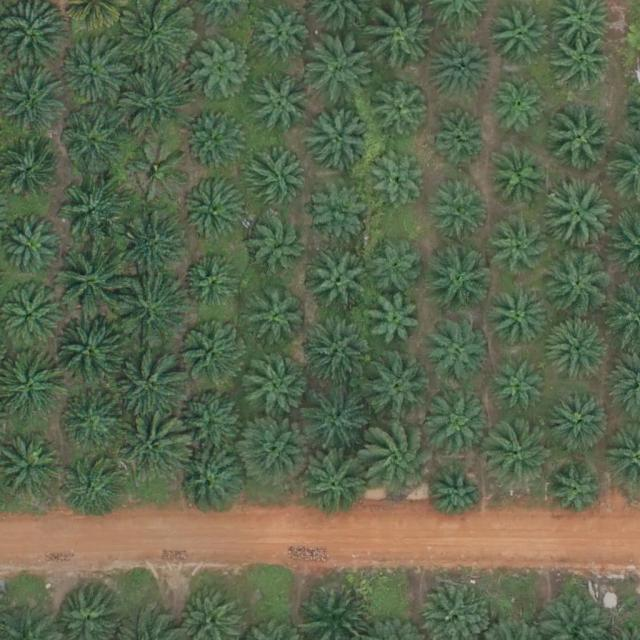Healthy: (361, 422, 439, 501), (545, 103, 616, 174), (541, 182, 612, 253), (301, 320, 372, 391), (116, 205, 187, 276), (55, 315, 126, 386), (543, 249, 613, 320), (487, 420, 557, 491), (304, 38, 374, 109), (301, 384, 372, 454), (299, 450, 369, 521), (116, 414, 186, 485), (114, 349, 185, 419), (116, 277, 186, 348), (361, 353, 431, 423), (242, 418, 312, 488), (176, 447, 246, 517), (119, 68, 189, 138), (59, 173, 129, 243), (55, 249, 125, 319), (549, 317, 612, 380), (489, 6, 552, 69), (489, 146, 552, 209), (490, 219, 553, 282), (429, 395, 492, 458), (249, 74, 312, 137), (244, 149, 307, 212), (247, 212, 310, 275), (185, 109, 248, 172), (59, 39, 122, 102), (60, 109, 123, 172), (550, 391, 612, 454), (488, 288, 550, 351), (429, 176, 491, 239), (428, 251, 490, 314), (426, 319, 488, 382), (371, 76, 433, 139), (309, 111, 371, 174), (306, 180, 368, 243), (311, 254, 373, 317), (245, 357, 307, 420), (187, 43, 250, 105), (184, 181, 246, 244), (183, 323, 245, 386), (63, 393, 125, 456), (61, 461, 123, 524), (2, 75, 64, 138), (428, 40, 490, 102), (184, 386, 246, 448), (5, 221, 60, 277), (557, 38, 612, 93), (551, 468, 606, 523), (491, 82, 546, 137), (495, 360, 550, 415), (432, 109, 487, 164), (185, 259, 240, 314), (430, 468, 484, 523), (370, 152, 424, 207), (370, 240, 424, 295), (368, 295, 422, 350), (257, 9, 311, 64), (250, 292, 304, 347)
Yellow: (129, 140, 191, 203)
